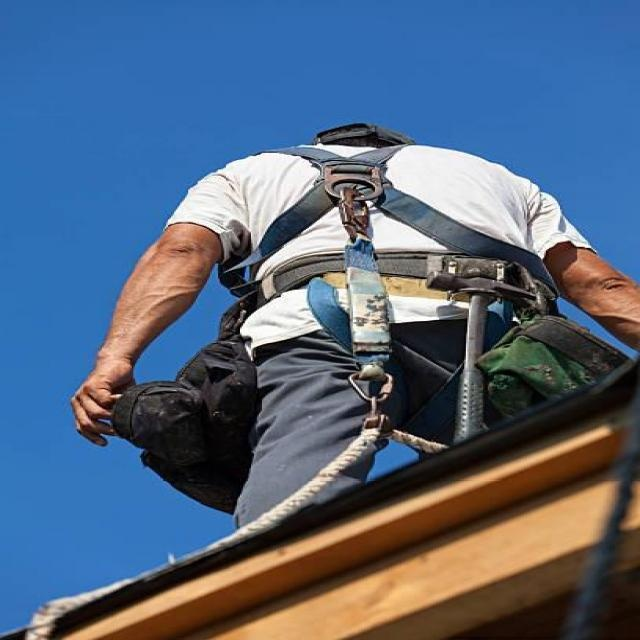Arnes_seguridad: (226, 139, 545, 333)
